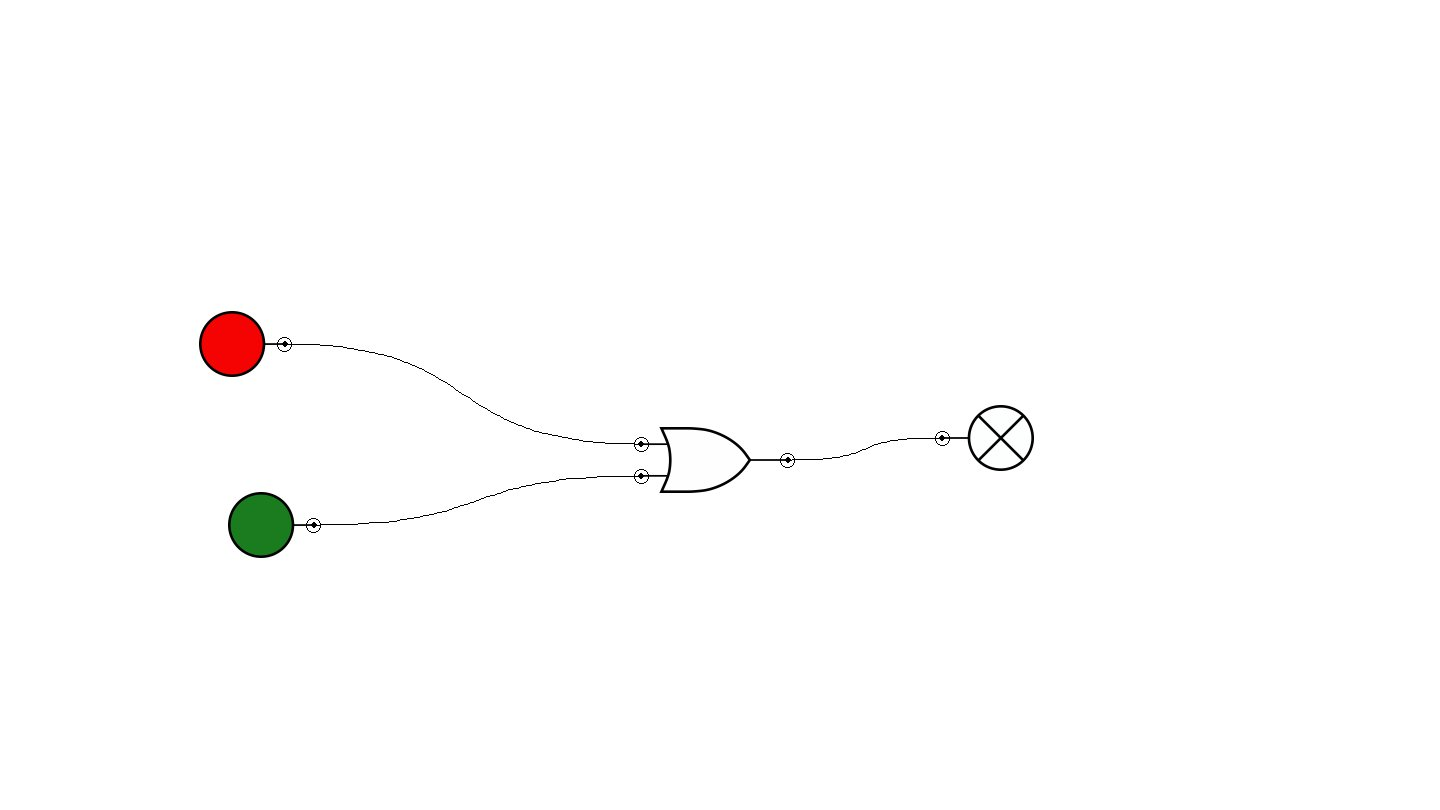bulb: (935, 405, 1034, 471)
or: (634, 427, 795, 493)
switch_False: (199, 311, 292, 377)
switch_True: (228, 492, 321, 558)
